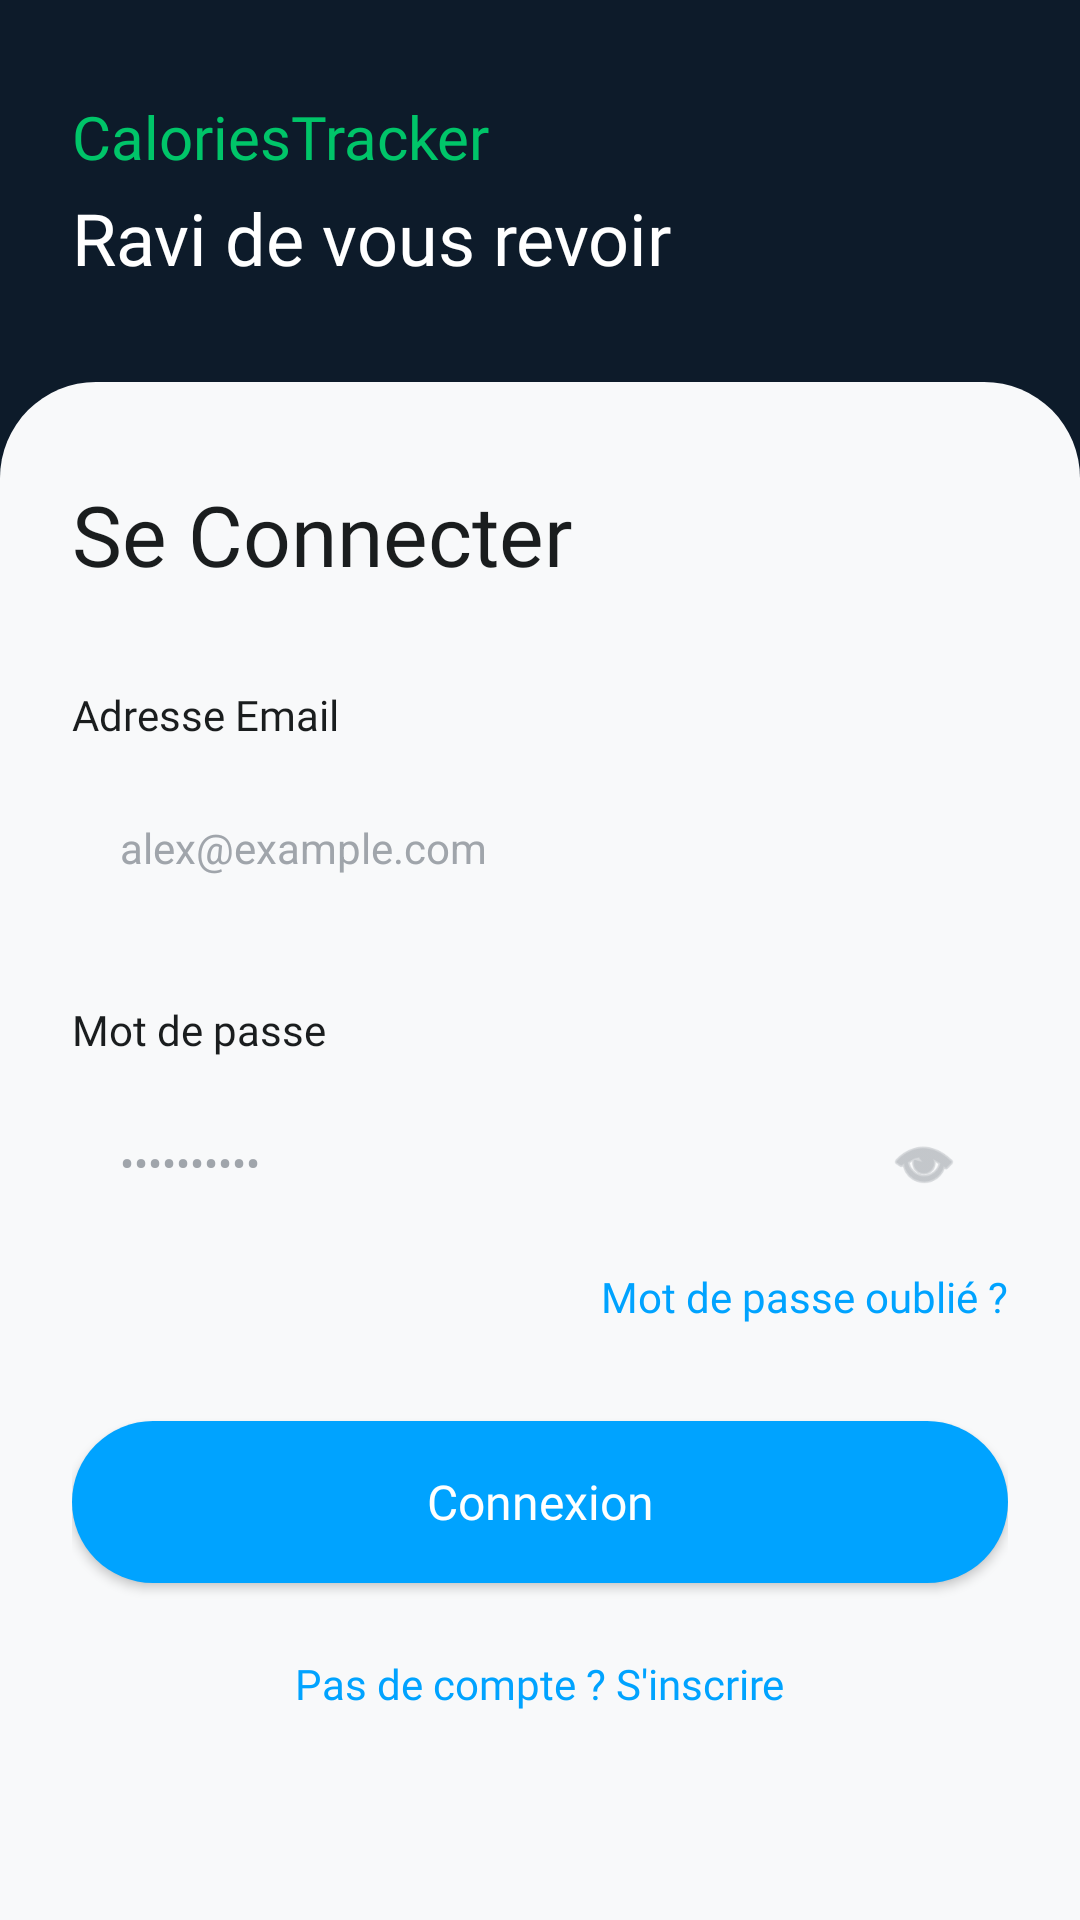

Screen size 1080x1920. Icon name, then its box in pixels as box(x1, y1, x2, y2):
view: box(895, 1147, 953, 1183)
